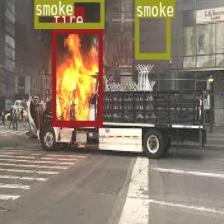fire: (52, 27, 101, 126)
smoke: (134, 0, 169, 57), (34, 0, 104, 27)
